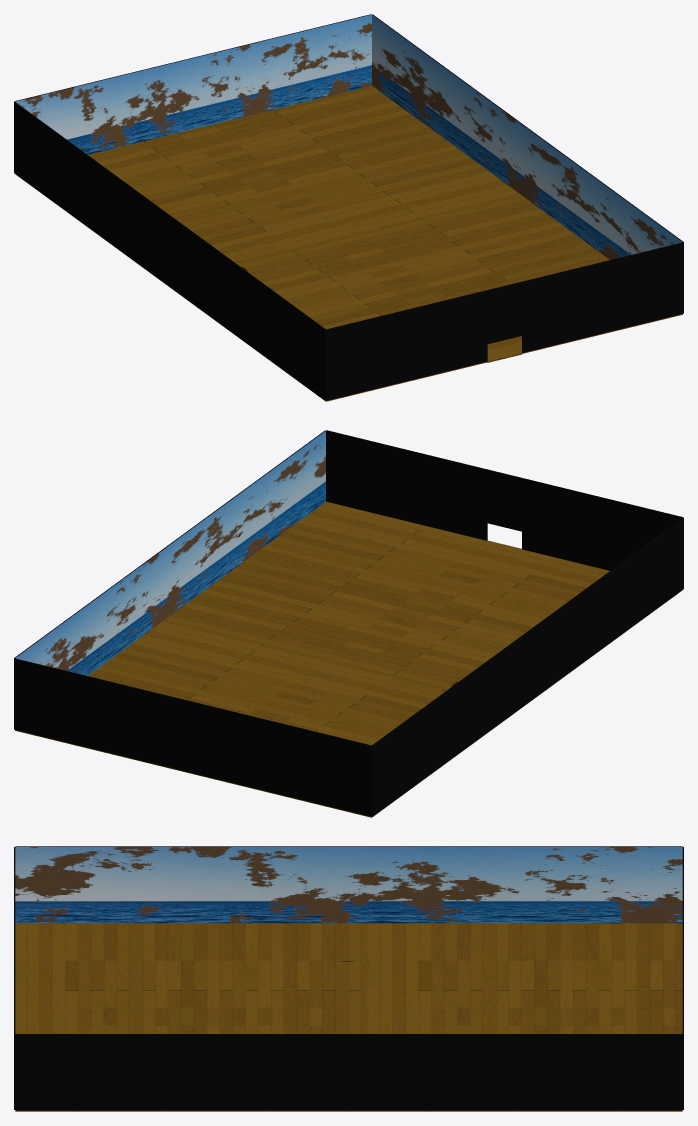
The model's file is sala jefe.fbx.
3 renders of one model, top to bottom at view 1: azimuth 30°, elevation 25°; view 2: azimuth 150°, elevation 25°; view 3: azimuth 270°, elevation 25°, orthographic. The views are drawn at different scales.
Visible parts, largest first — view 1: suelo sala jeffe, backward wall, pared jefe fondo, pared jefe L, pared jefe R; view 2: suelo sala jeffe, pared jefe fondo, pared jefe L, backward wall, pared jefe R; view 3: suelo sala jeffe, pared jefe L, pared jefe R, backward wall, pared jefe fondo.
Part boxes in pixels (x1,y1,x2,y2): suelo sala jeffe: (15, 85, 682, 401); backward wall: (326, 242, 683, 400); pared jefe fondo: (14, 14, 371, 154); pared jefe L: (14, 101, 325, 400); pared jefe R: (372, 14, 683, 312); suelo sala jeffe: (15, 501, 682, 817); pared jefe fondo: (14, 658, 371, 816); pared jefe L: (372, 517, 683, 816); backward wall: (326, 430, 683, 570); pared jefe R: (14, 430, 325, 728); suelo sala jeffe: (15, 923, 682, 1111); pared jefe L: (15, 846, 682, 923); pared jefe R: (15, 1034, 682, 1110); backward wall: (14, 847, 15, 1109); pared jefe fondo: (682, 847, 683, 1109).
Bounding box in the file's own units: 9326 × 1798 × 14057.
